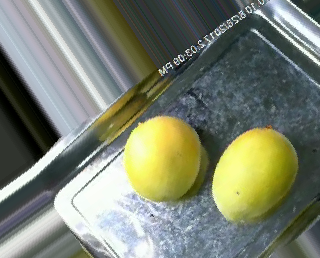Mango: (211, 126, 301, 222), (121, 114, 203, 201)
